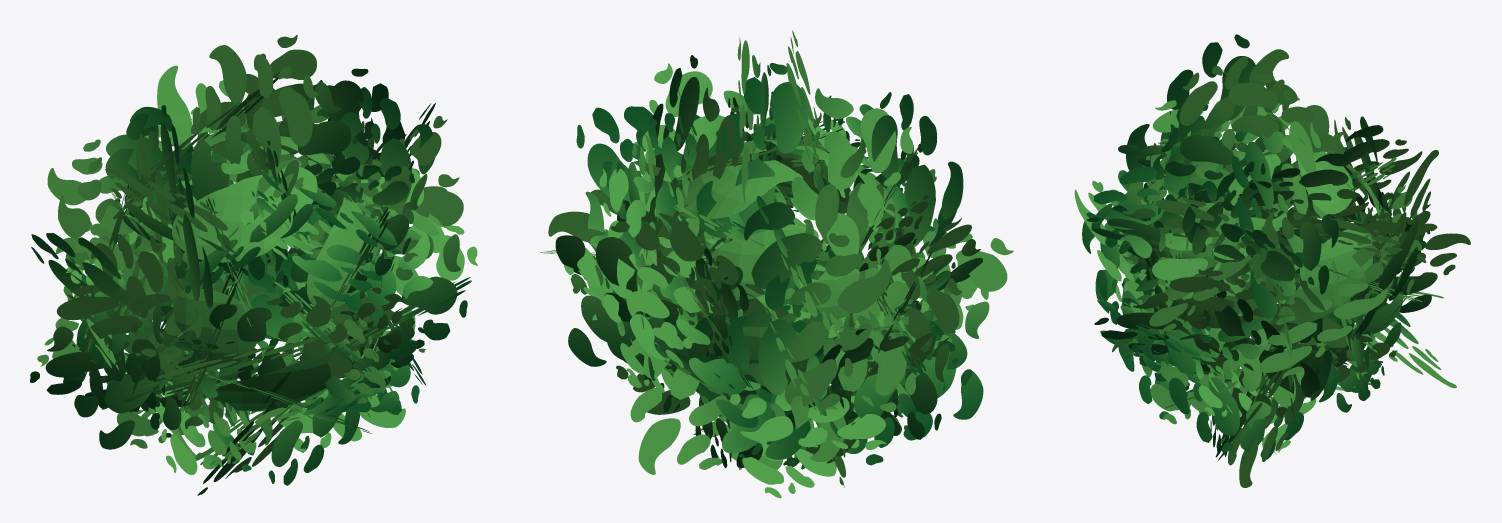
The model's file is SM_LeafSet2.fbx.
The picture shows the model from 3 angles, left to right: view 1: azimuth 30°, elevation 25°; view 2: azimuth 150°, elevation 25°; view 3: azimuth 270°, elevation 25°; orthographic projection. The views are drawn at different scales.
Parts seen in each view (by area): view 1: Plane.009; view 2: Plane.009; view 3: Plane.009.
Part boxes in pixels (left/top/right/bottom): Plane.009: left=30, top=35, right=477, bottom=495; Plane.009: left=540, top=30, right=1013, bottom=498; Plane.009: left=1074, top=34, right=1470, bottom=487.
Size of the model in its own units: 357 by 355 by 330.
